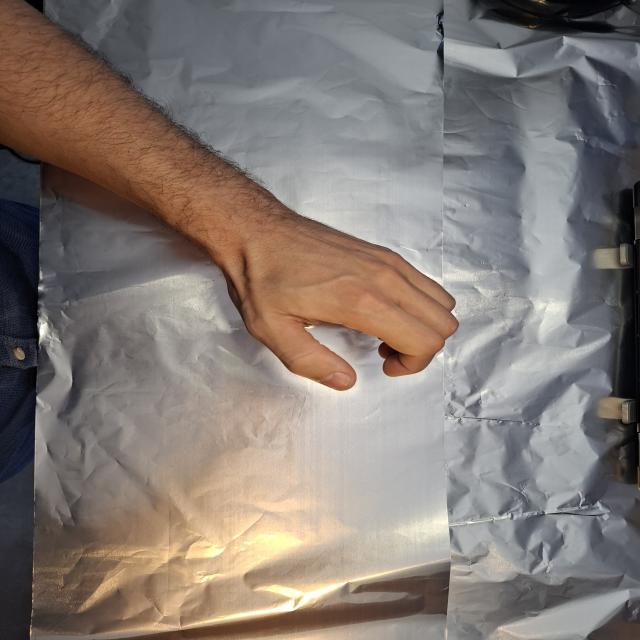glove_off: (203, 192, 462, 392)
